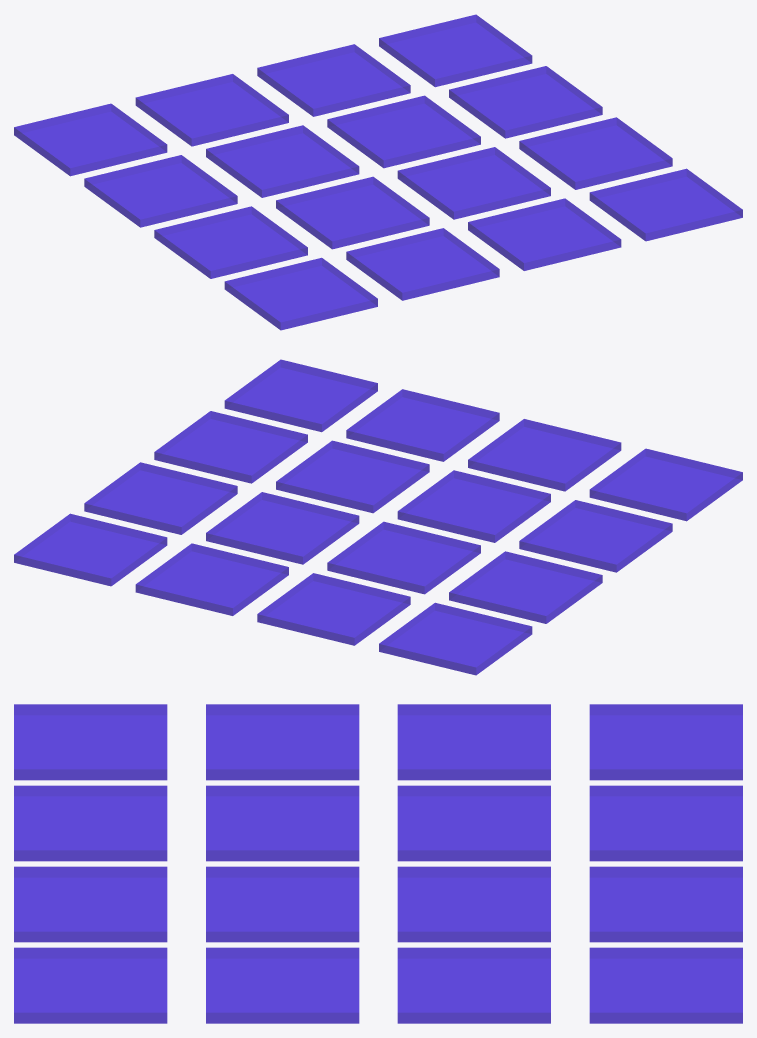
File: battleground B2.glb
3 views of the same model, one above another, from view 1: azimuth 30°, elevation 25°; view 2: azimuth 150°, elevation 25°; view 3: azimuth 270°, elevation 25° (orthographic). The views are drawn at different scales.
Visible parts, largest first — view 1: Cube.005, Cube.012, Cube.002, Cube.001, Cube.006, Cube.007, Cube.010, Cube.011, Cube.015, Cube.016, Cube.003, Cube.008 (+4 smaller); view 2: Cube.008, Cube.009, Cube.003, Cube.004, Cube.006, Cube.007, Cube.010, Cube.011, Cube.013, Cube.014, Cube.001, Cube.005 (+4 smaller); view 3: Cube.002, Cube.004, Cube.005, Cube.008, Cube.009, Cube.012, Cube.013, Cube.016, Cube.001, Cube.003, Cube.006, Cube.007 (+4 smaller).
Boxes of the visible parts, x1,y1,x2,y2 form: Cube.005: (154, 206, 307, 278); Cube.012: (449, 66, 602, 138); Cube.002: (224, 257, 377, 330); Cube.001: (346, 228, 499, 300); Cube.006: (276, 176, 429, 249); Cube.007: (397, 147, 550, 219); Cube.010: (206, 125, 359, 197); Cube.011: (327, 95, 480, 168); Cube.015: (257, 44, 410, 116); Cube.016: (379, 14, 532, 87); Cube.003: (468, 198, 621, 270); Cube.008: (519, 117, 672, 189); Cube.008: (154, 411, 307, 483); Cube.009: (449, 551, 602, 623); Cube.003: (346, 389, 499, 461); Cube.004: (224, 359, 377, 432); Cube.006: (397, 470, 550, 542); Cube.007: (276, 440, 429, 513); Cube.010: (327, 521, 480, 594); Cube.011: (206, 492, 359, 564); Cube.013: (379, 602, 532, 675); Cube.014: (257, 573, 410, 645); Cube.001: (468, 419, 621, 491); Cube.005: (519, 500, 672, 572); Cube.002: (14, 704, 167, 780); Cube.004: (14, 947, 167, 1023); Cube.005: (206, 704, 359, 780); Cube.008: (206, 947, 359, 1023); Cube.009: (397, 704, 550, 780); Cube.012: (397, 947, 550, 1023); Cube.013: (589, 704, 742, 780); Cube.016: (589, 947, 742, 1023); Cube.001: (14, 785, 167, 861); Cube.003: (14, 866, 167, 942); Cube.006: (206, 785, 359, 861); Cube.007: (206, 866, 359, 942).
Bounding box in the file's own units: 9.5 × 0.1572 × 9.5.
